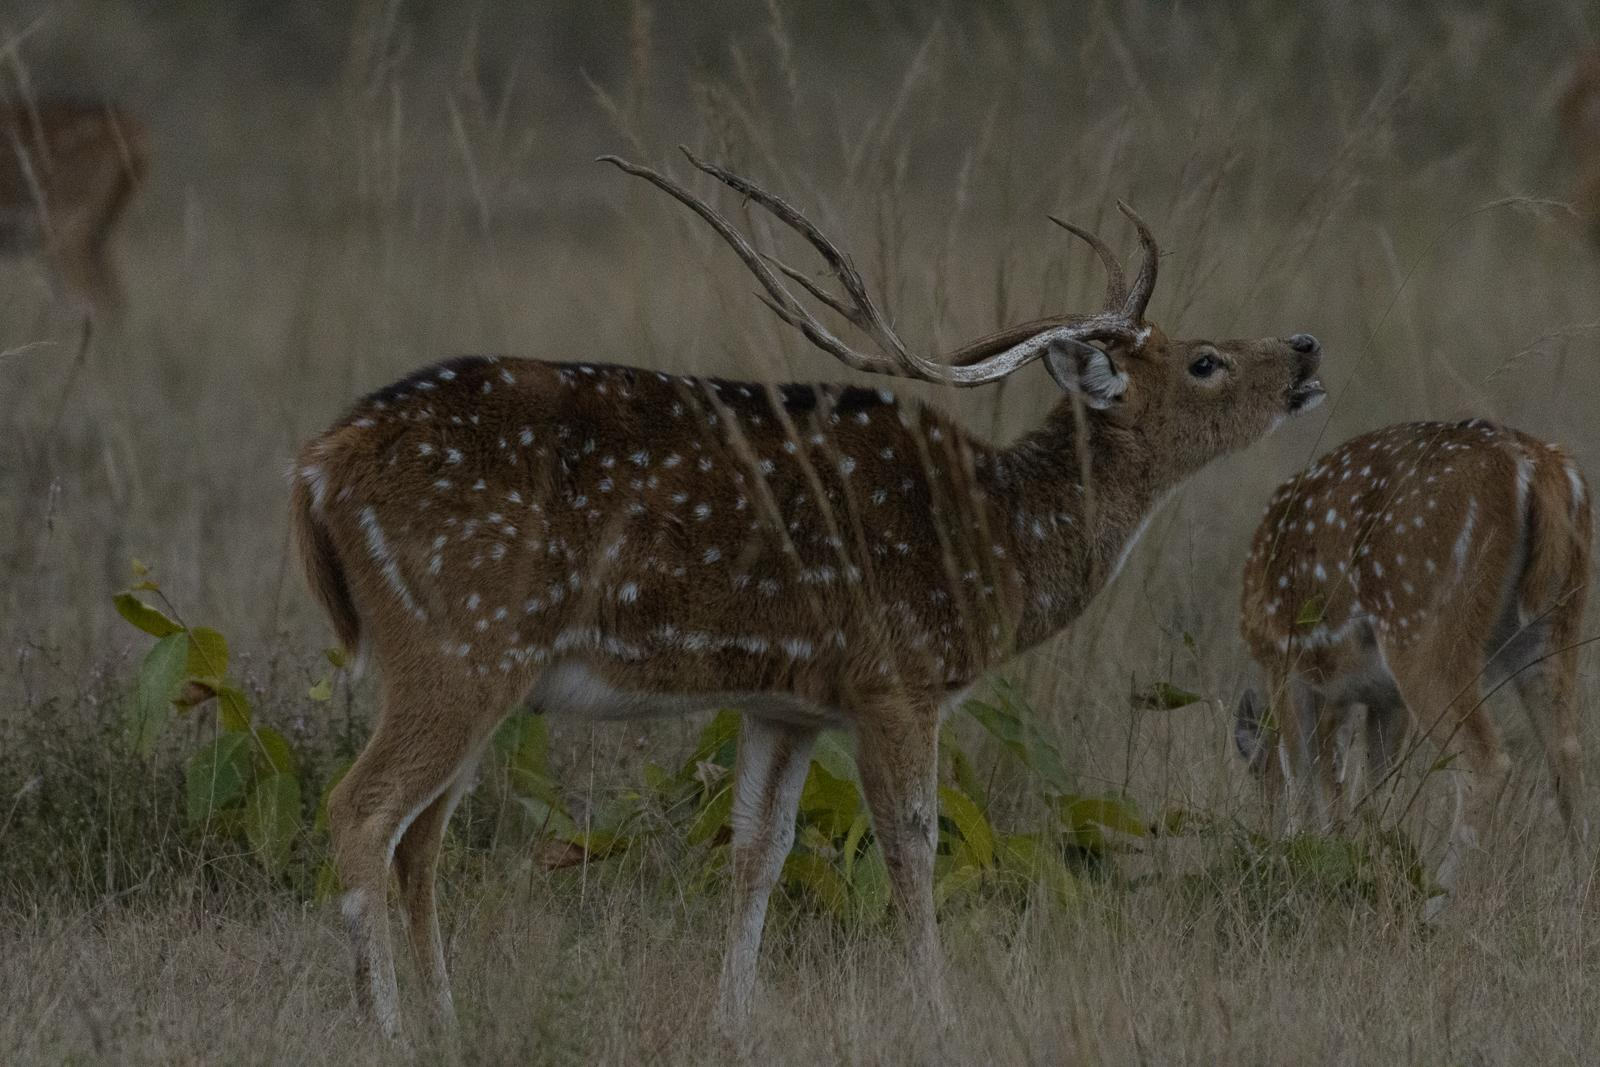Deer: (293, 154, 1325, 1029), (1236, 419, 1590, 831)
